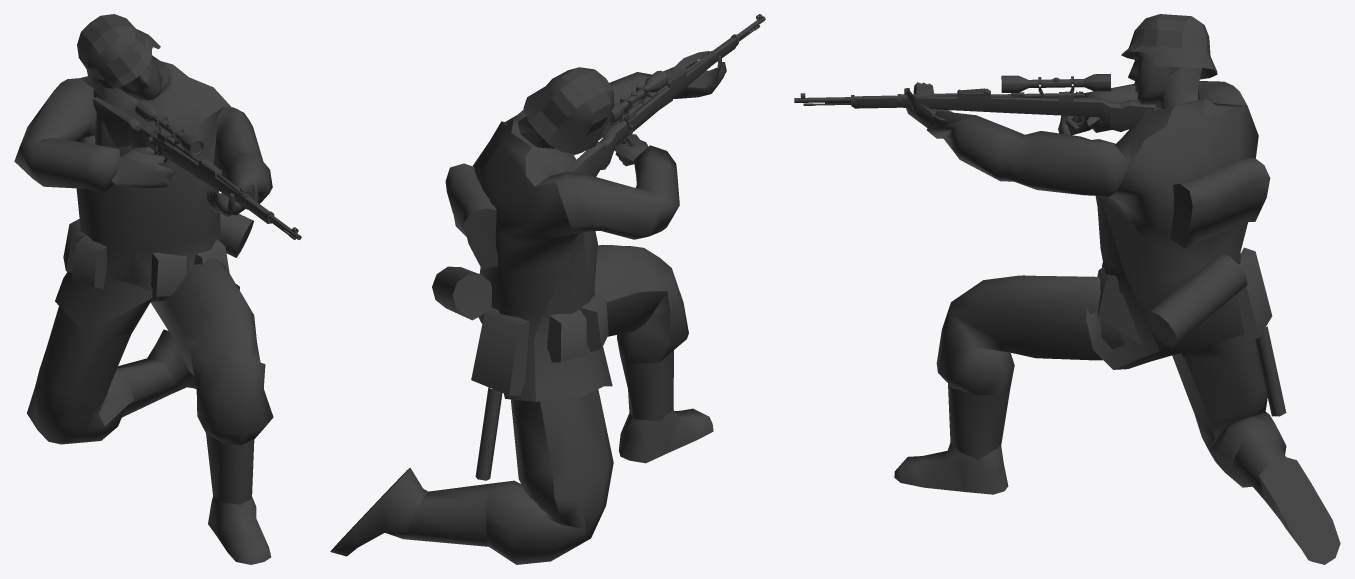
The model's file is de_ott_acc.glb.
The picture shows the model from 3 angles, left to right: view 1: azimuth 30°, elevation 25°; view 2: azimuth 150°, elevation 25°; view 3: azimuth 270°, elevation 25°; orthographic projection.
Visible parts, largest first — view 1: SketchUp.055_ID340_2; view 2: SketchUp.055_ID340_2; view 3: SketchUp.055_ID340_2.
Boxes of the visible parts, x1,y1,x2,y2 form: SketchUp.055_ID340_2: (14,14,301,564); SketchUp.055_ID340_2: (330,14,765,564); SketchUp.055_ID340_2: (794,14,1340,564).
Bounding box in the file's own units: 0.2293 × 0.387 × 0.4098.
Materials: 1 (1 with a texture image).
